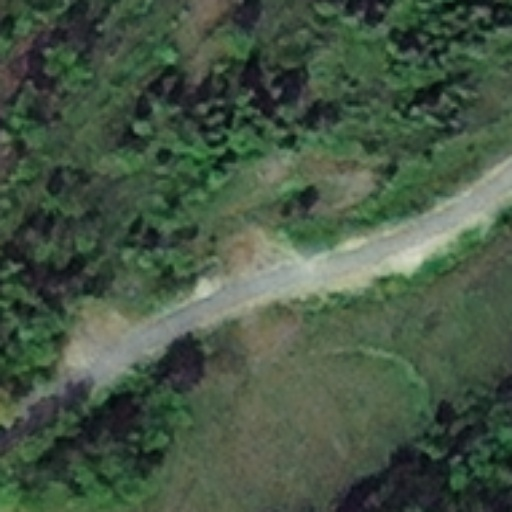landslide: (212, 225, 313, 287), (62, 302, 139, 372)
